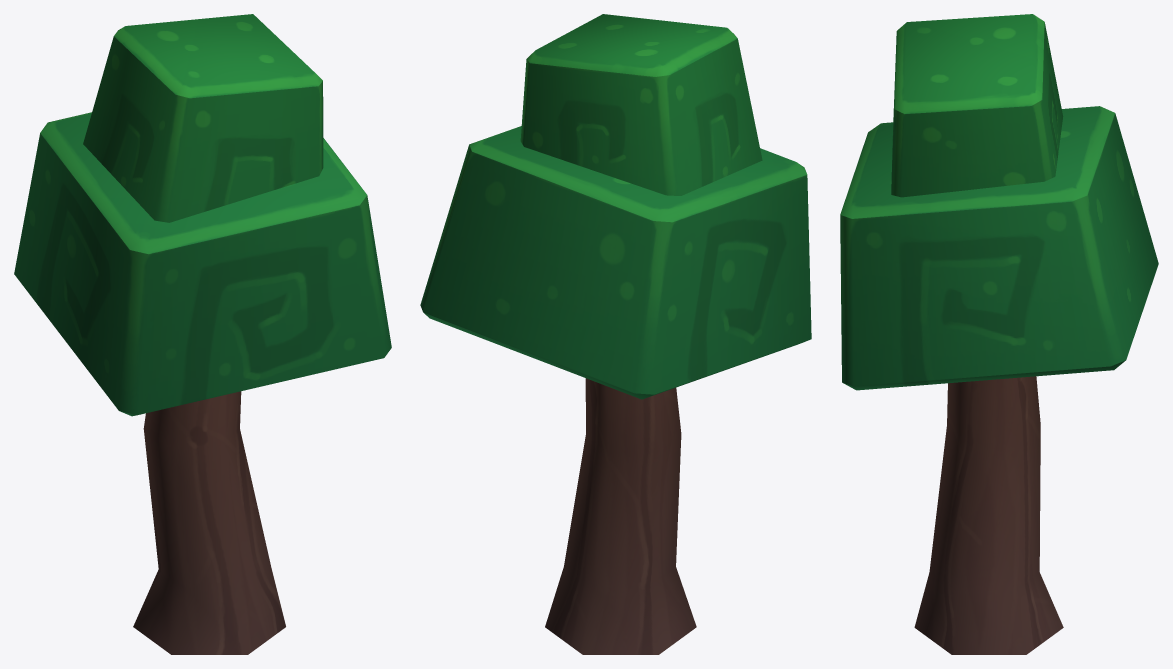
File: forest_tree_01.fbx
The picture shows the model from 3 angles, left to right: view 1: azimuth 30°, elevation 25°; view 2: azimuth 150°, elevation 25°; view 3: azimuth 270°, elevation 25°; orthographic projection. The views are drawn at different scales.
Parts seen in each view (by area): view 1: forest_tree_01; view 2: forest_tree_01; view 3: forest_tree_01.
Boxes of the visible parts, x1,y1,x2,y2 form: forest_tree_01: (14,14,391,654); forest_tree_01: (420,14,811,654); forest_tree_01: (840,14,1158,654).
Size of the model in its own units: 2.35 by 4.79 by 2.37.
